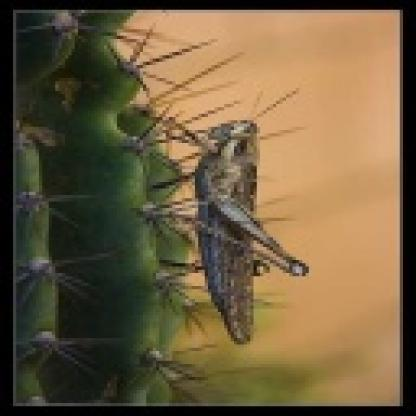grasshopper: (164, 75, 320, 342)
